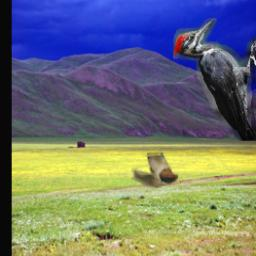Swallow: (131, 154, 178, 189)
Woodpecker: (174, 19, 256, 142)
